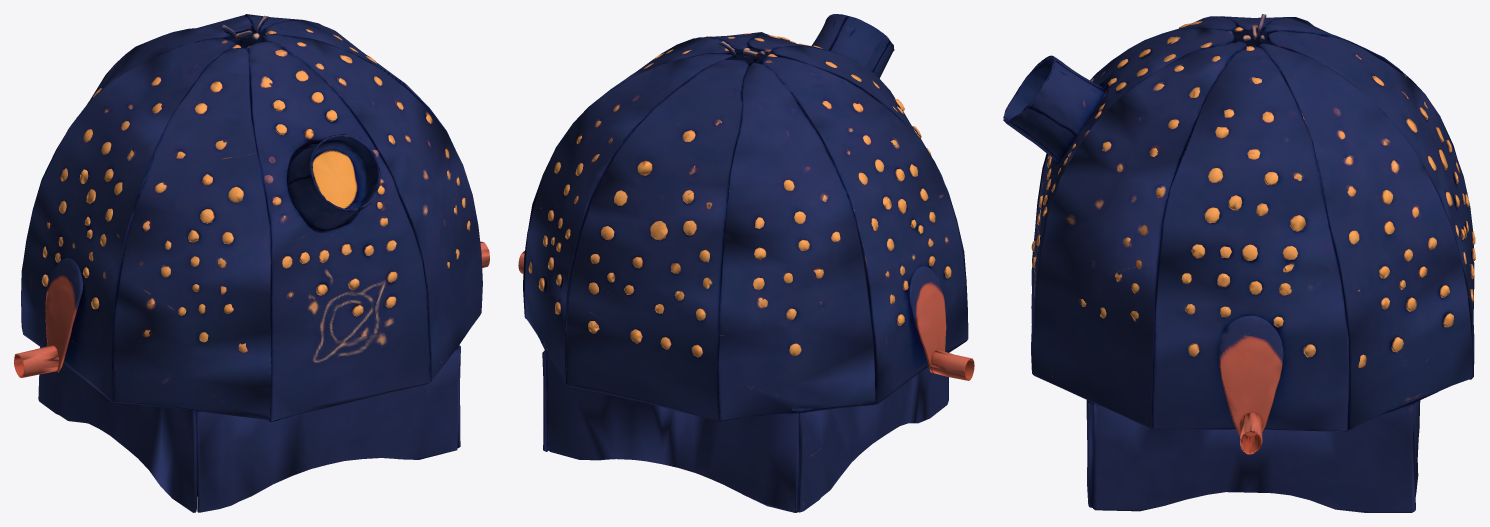
File: StarStencilProjector.fbx
3 renders of one model, left to right at view 1: azimuth 30°, elevation 25°; view 2: azimuth 150°, elevation 25°; view 3: azimuth 270°, elevation 25°, orthographic. The views are drawn at different scales.
Parts seen in each view (by area): view 1: geometry_0; view 2: geometry_0; view 3: geometry_0.
Part boxes in pixels (box(x1,y1,x2,y2)): geometry_0: box(14, 14, 489, 512); geometry_0: box(518, 14, 974, 512); geometry_0: box(1003, 14, 1475, 512).
Size of the model in its own units: 100 by 82.9 by 84.52.
1 material, 1 textured.
